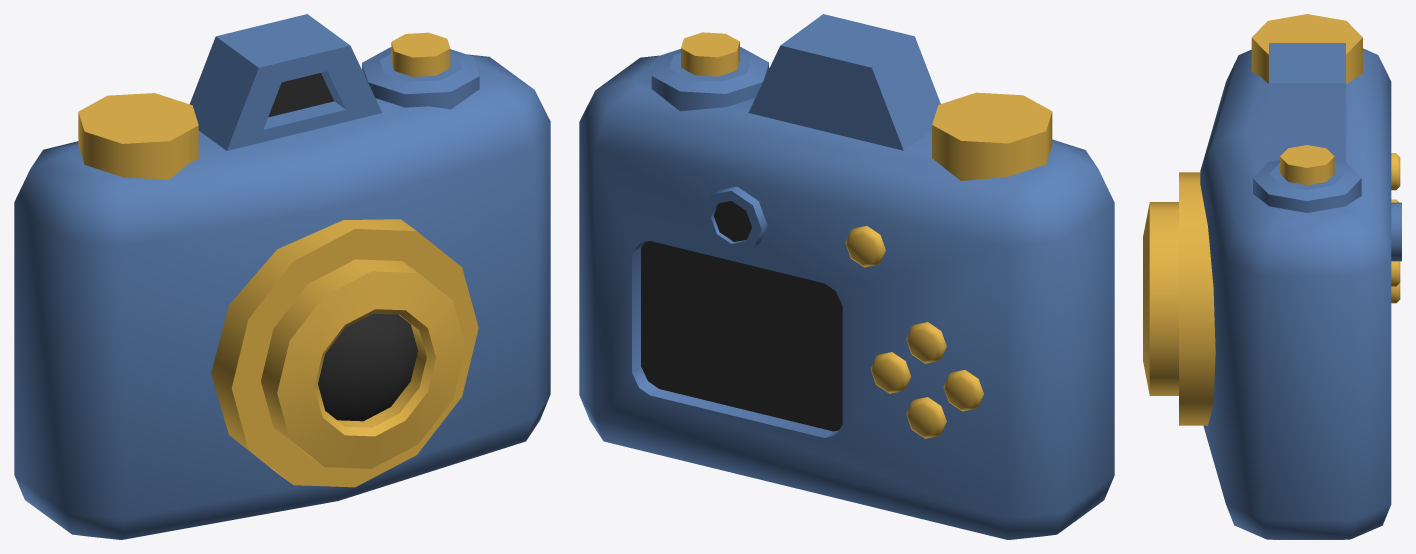
File: Camera_01.fbx
3 renders of one model, left to right at view 1: azimuth 30°, elevation 25°; view 2: azimuth 150°, elevation 25°; view 3: azimuth 270°, elevation 25°, orthographic. The views are drawn at different scales.
Visible parts, largest first — view 1: Camera_01; view 2: Camera_01; view 3: Camera_01.
Part boxes in pixels (bbox=[...]): Camera_01: bbox=[14, 14, 550, 539]; Camera_01: bbox=[579, 14, 1114, 539]; Camera_01: bbox=[1143, 14, 1401, 539].
Bounding box in the file's own units: 0.1767 × 0.1497 × 0.0915.
